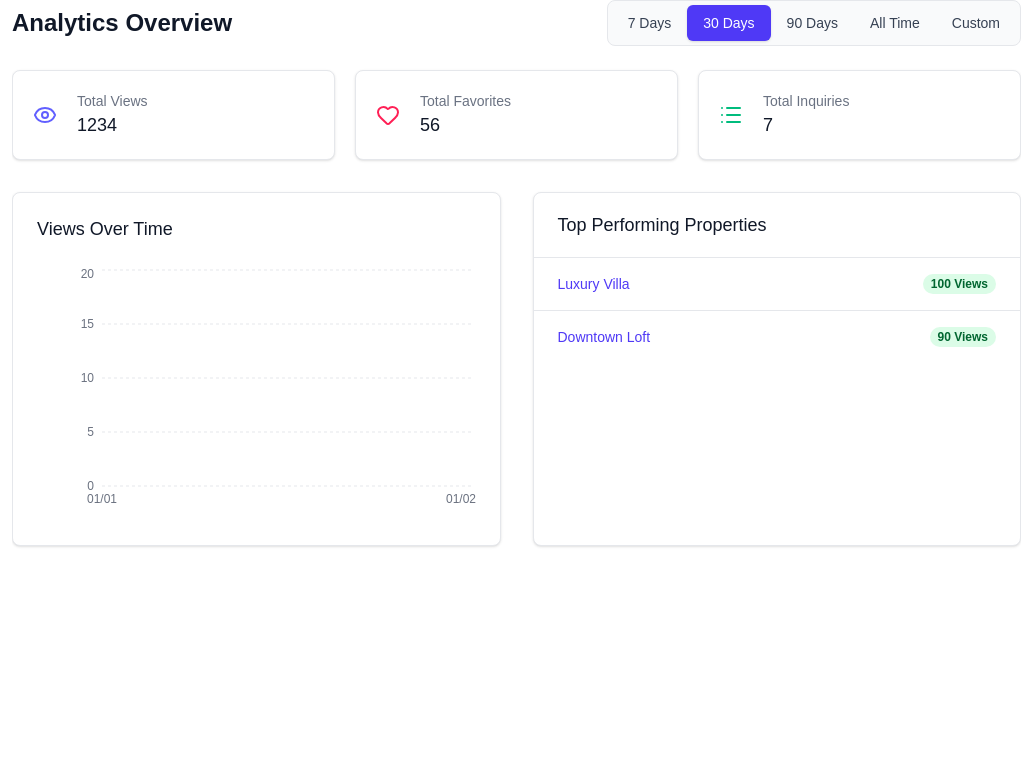
Test case: AdminAnalytics › with time range selection › updates displayed data after fetching
Check: the text "1234" is shown, box [77,115,117,135]
Click the button "7 Days": click(650, 23) [612,5,687,41]
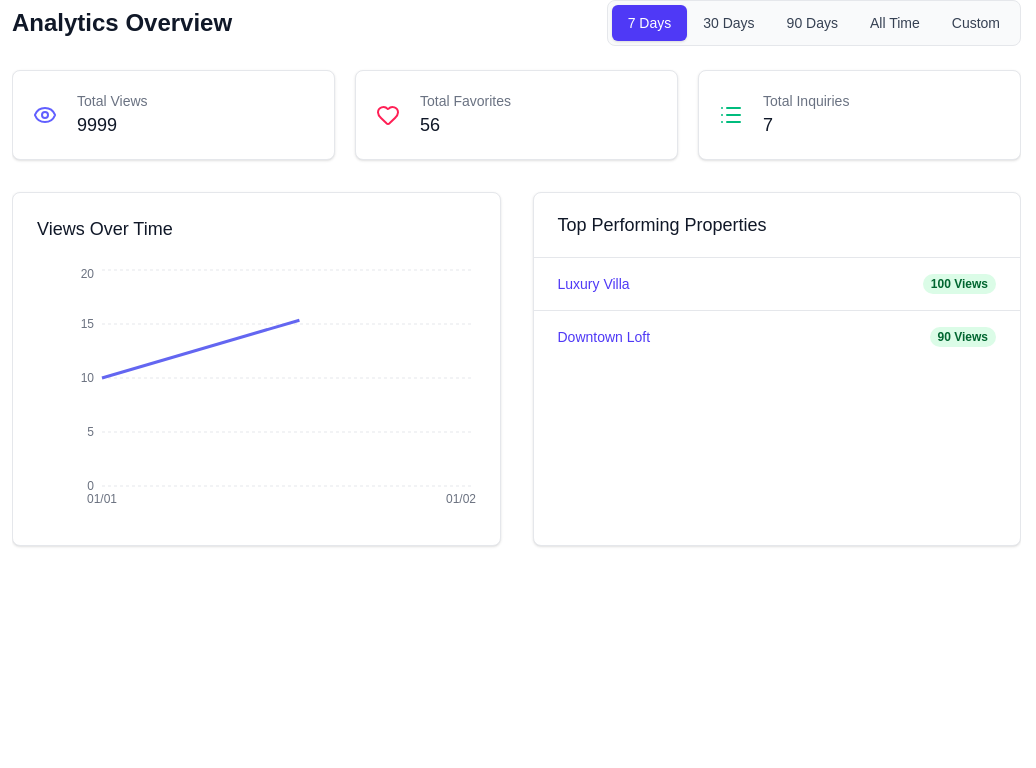
Check: the text "9999" is shown, box [77,115,117,135]
